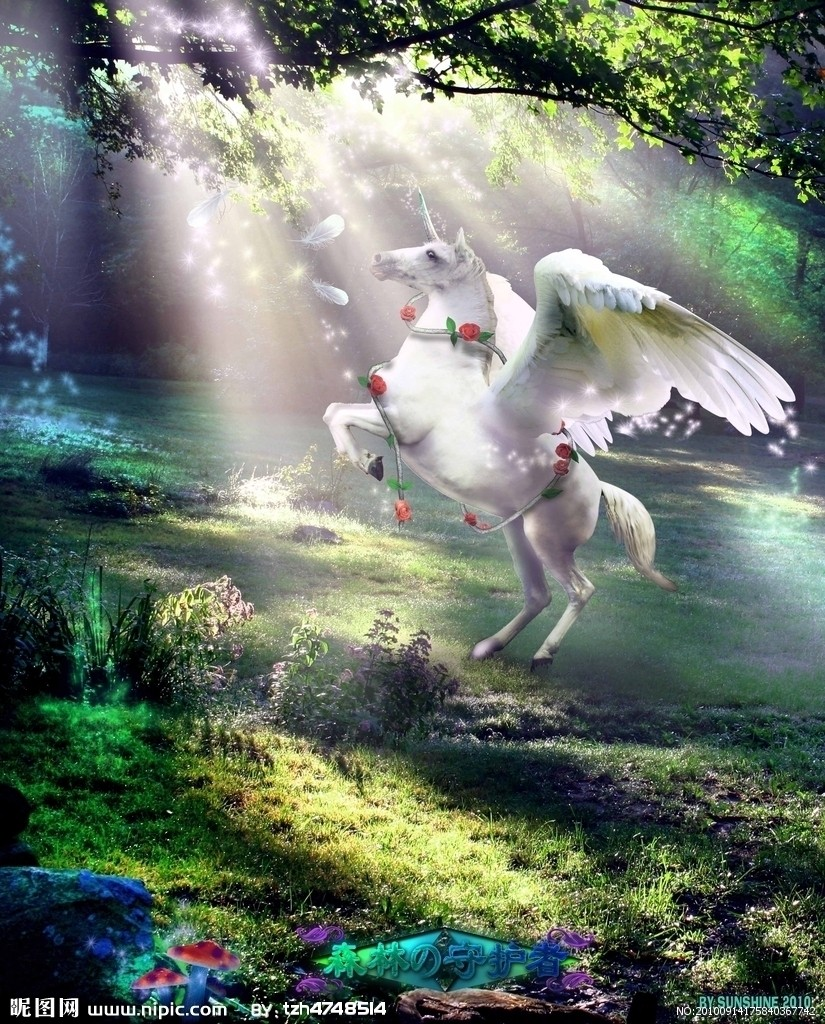background: (312, 179, 799, 671)
